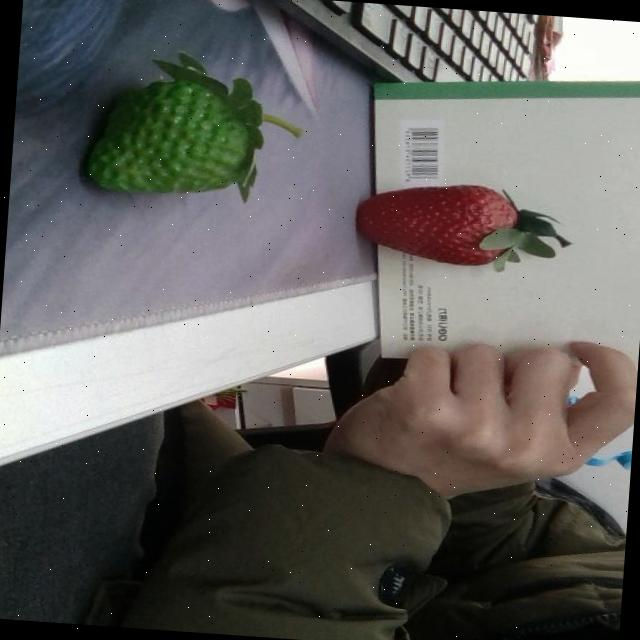strawberry: (81, 71, 256, 201), (352, 176, 526, 270)
